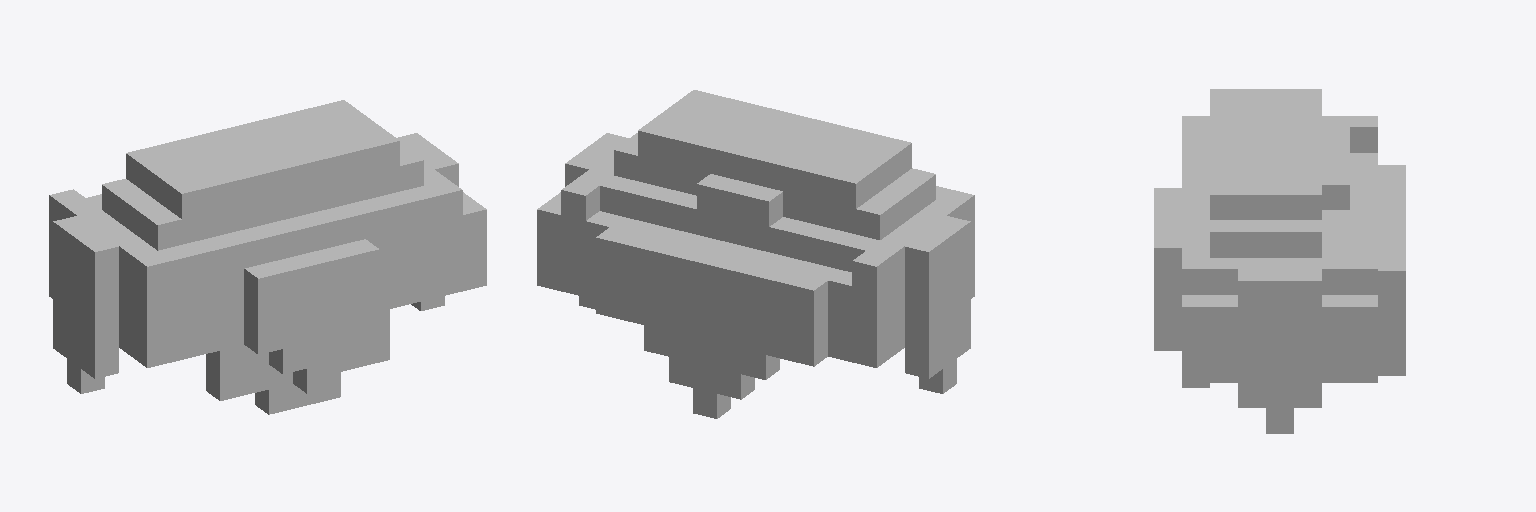
Rendered from body2.obj.
3 renders of one model, left to right at view 1: azimuth 30°, elevation 25°; view 2: azimuth 150°, elevation 25°; view 3: azimuth 270°, elevation 25°, orthographic.
Size of the model in its own units: 15 by 9 by 9.